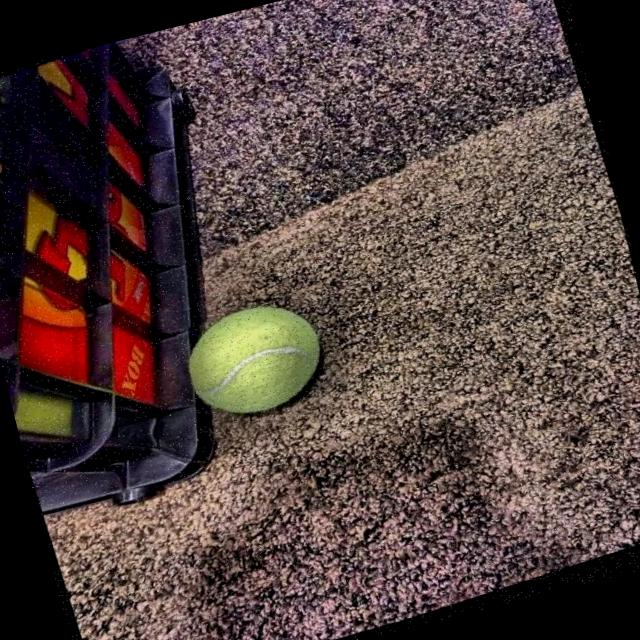tennis-ball: (175, 286, 352, 444)
